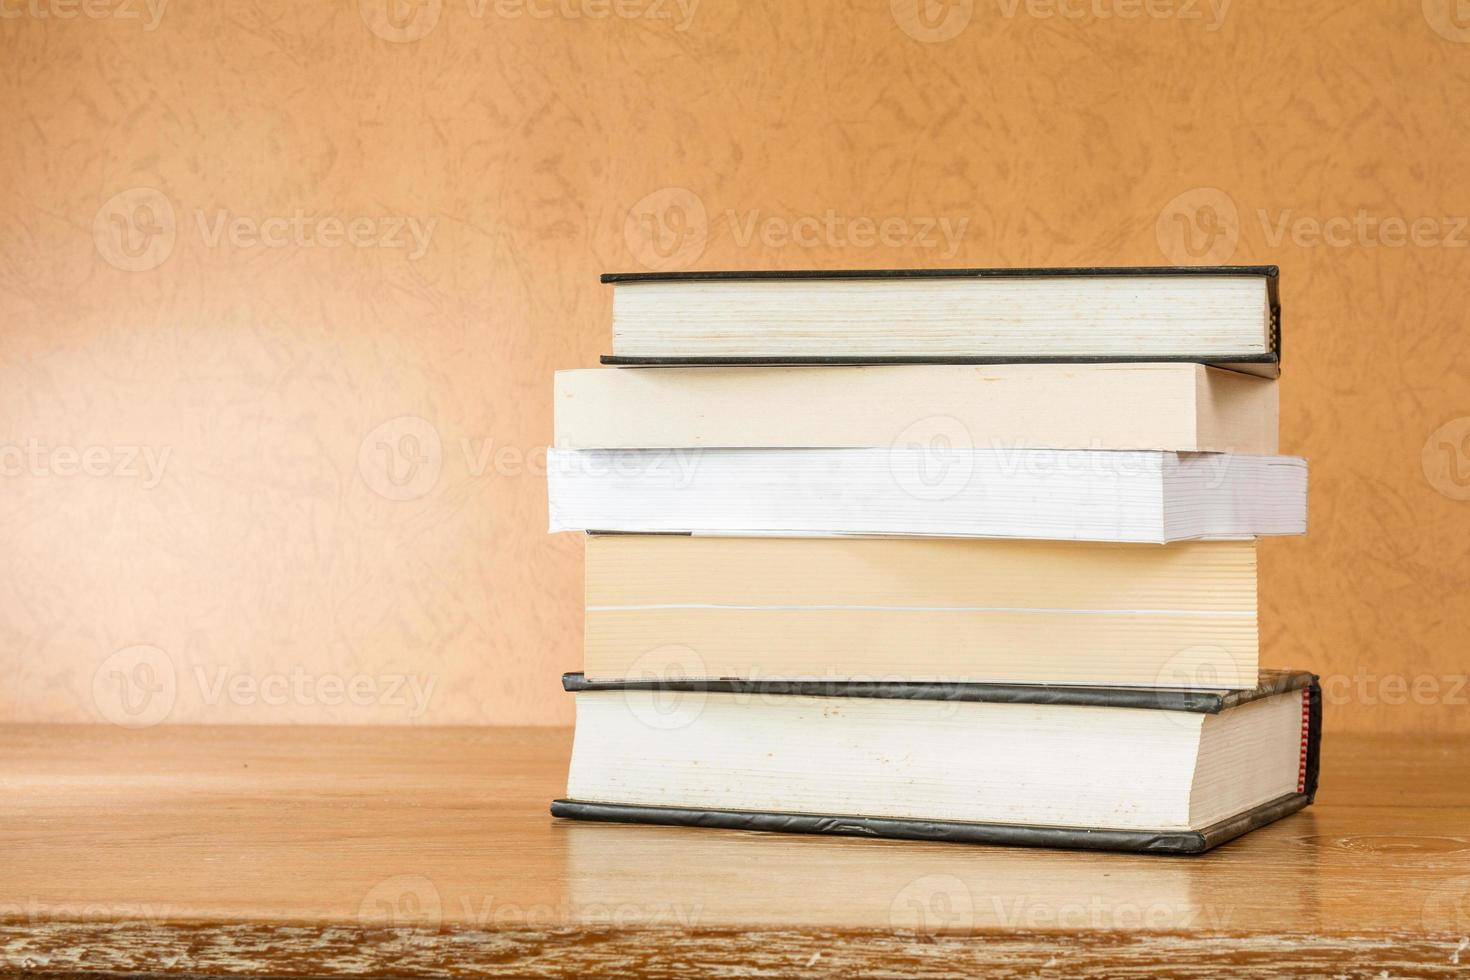book: (520, 207, 1372, 891)
